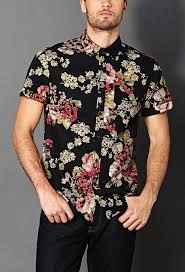Shirt: (17, 26, 174, 218)
